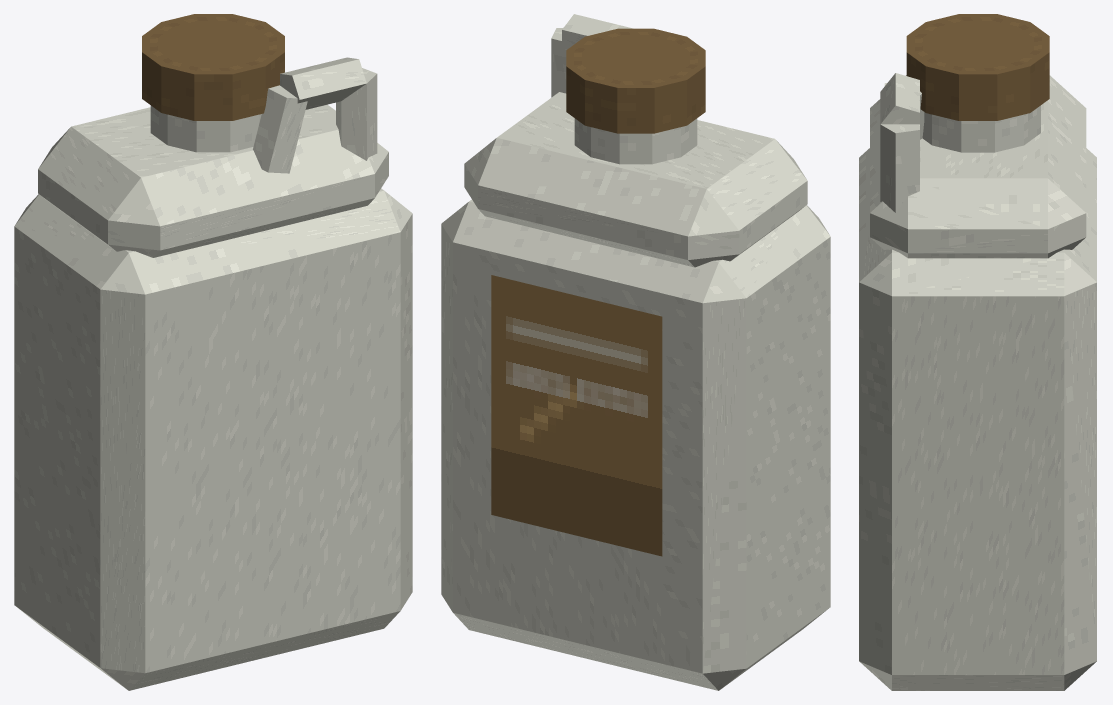
Rendered from ammonia_hydroxide.glb.
The picture shows the model from 3 angles, left to right: view 1: azimuth 30°, elevation 25°; view 2: azimuth 150°, elevation 25°; view 3: azimuth 270°, elevation 25°; orthographic projection. The views are drawn at different scales.
Parts seen in each view (by area): view 1: block_moulded jug, block_sloping jug shoulder, block_ribbed closure, block_neck, block_open carry handle 3, block_open carry handle 2, block_open carry handle 1; view 2: block_moulded jug, block_label, block_sloping jug shoulder, block_ribbed closure, block_neck, block_open carry handle 2, block_open carry handle 1; view 3: block_moulded jug, block_sloping jug shoulder, block_ribbed closure, block_neck, block_open carry handle 1, block_open carry handle 2.
Part boxes in pixels (x1,y1,x2,y2): block_moulded jug: [14, 188, 412, 690]; block_sloping jug shoulder: [38, 104, 388, 257]; block_ribbed closure: [142, 14, 284, 120]; block_neck: [150, 105, 261, 152]; block_open carry handle 3: [253, 85, 307, 173]; block_open carry handle 2: [280, 57, 366, 109]; block_open carry handle 1: [336, 68, 377, 160]; block_moulded jug: [441, 199, 830, 690]; block_label: [491, 275, 662, 556]; block_sloping jug shoulder: [464, 92, 807, 267]; block_ribbed closure: [566, 28, 705, 133]; block_neck: [574, 118, 697, 164]; block_open carry handle 2: [562, 14, 632, 53]; block_open carry handle 1: [551, 27, 566, 97]; block_moulded jug: [859, 148, 1096, 690]; block_sloping jug shoulder: [870, 75, 1086, 258]; block_ribbed closure: [906, 14, 1049, 120]; block_neck: [922, 105, 1040, 152]; block_open carry handle 1: [880, 124, 919, 212]; block_open carry handle 2: [880, 73, 919, 124].
Bounding box in the file's own units: 0.132 × 0.236 × 0.0878.
Materials: 1 (1 with a texture image).
